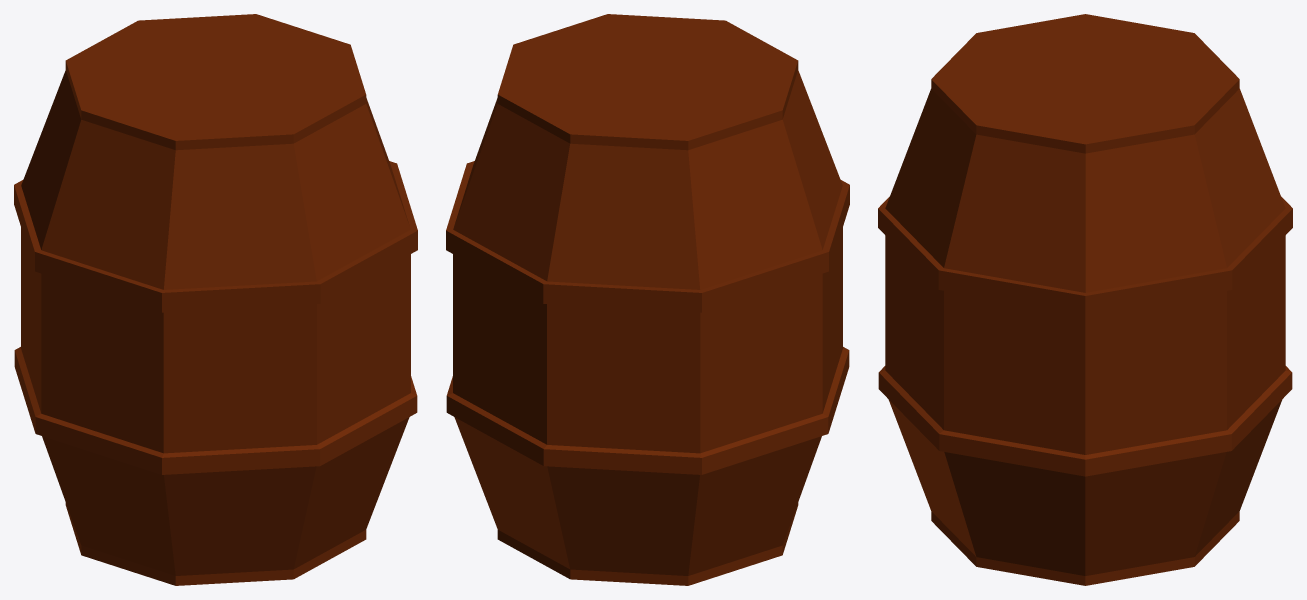
Rendered from enemy1.fbx.
The picture shows the model from 3 angles, left to right: view 1: azimuth 30°, elevation 25°; view 2: azimuth 150°, elevation 25°; view 3: azimuth 270°, elevation 25°; orthographic projection.
Parts seen in each view (by area): view 1: Circle; view 2: Circle; view 3: Circle.
Part boxes in pixels (<box>): Circle: <box>14,14,417,585</box>; Circle: <box>446,14,849,585</box>; Circle: <box>878,14,1292,585</box>.
Size of the model in its own units: 269 by 316 by 269.
